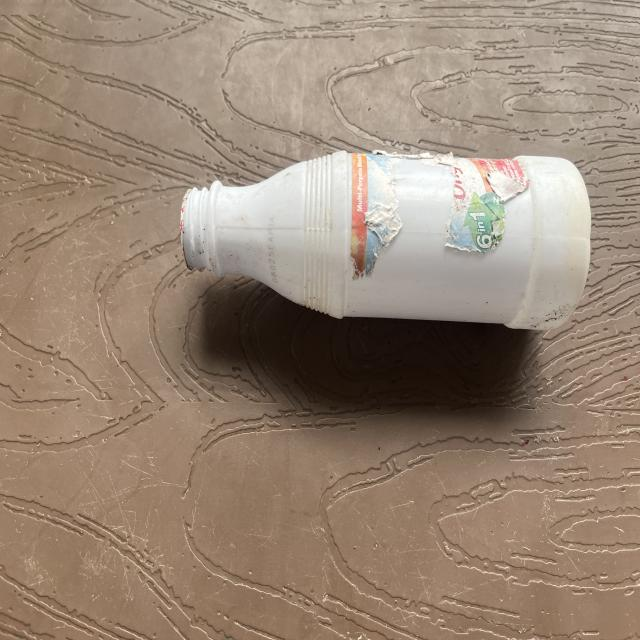REJECT: (164, 146, 600, 341)
